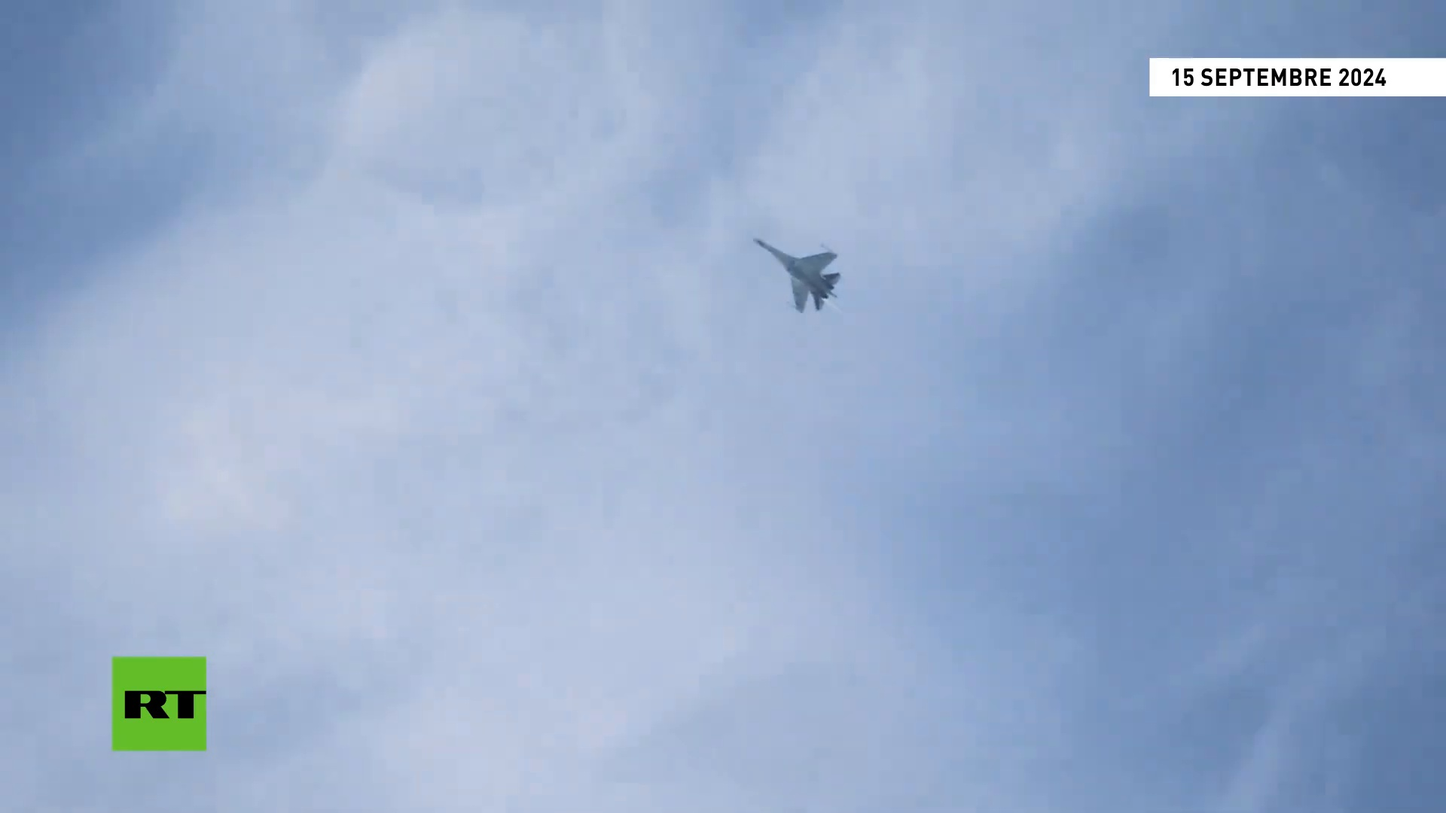Su35: (754, 238, 843, 313)
